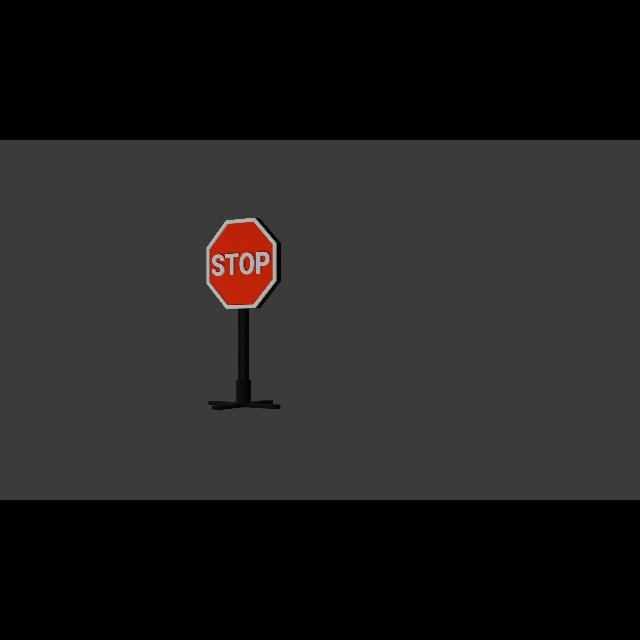sign_stop: (207, 218, 280, 310)
